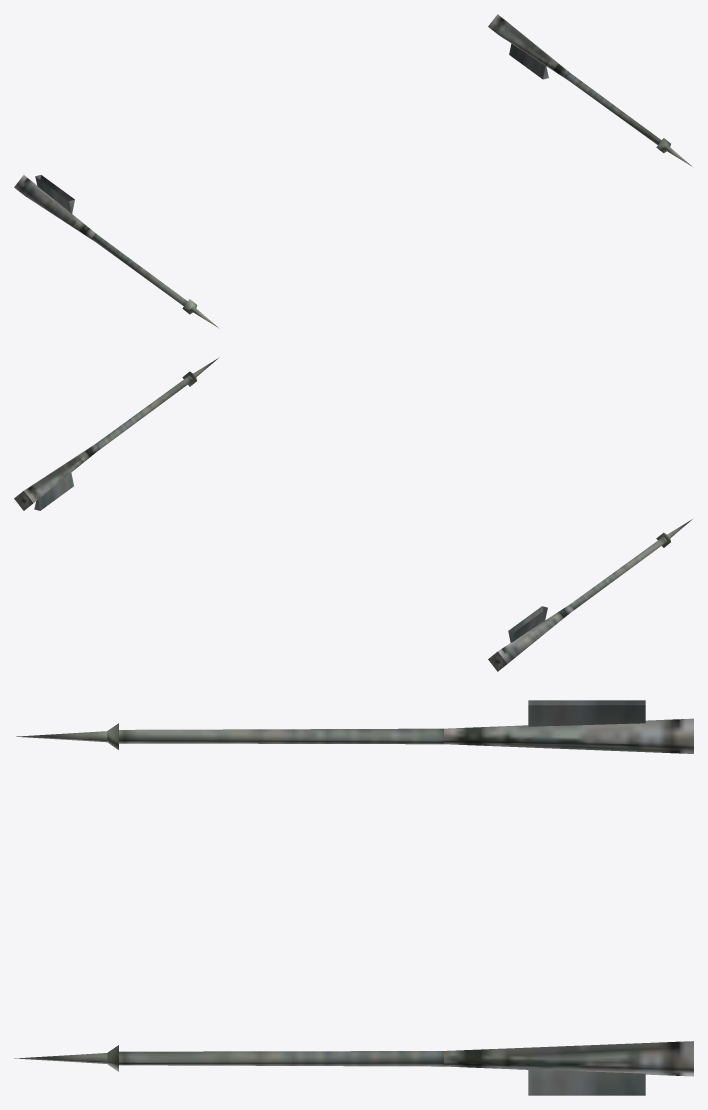
File: xwing_weapon1_neg_s01_l2.fbx
3 views of the same model, one above another, from view 1: azimuth 30°, elevation 25°; view 2: azimuth 150°, elevation 25°; view 3: azimuth 270°, elevation 25° (orthographic). The views are drawn at different scales.
Parts seen in each view (by area): view 1: mesh_node; view 2: mesh_node; view 3: mesh_node.
Boxes of the visible parts, x1,y1,x2,y2 form: mesh_node: (14, 14, 692, 328); mesh_node: (14, 357, 692, 671); mesh_node: (14, 700, 693, 1095).
Bounding box in the file's own units: 12.94 × 1.64 × 8.92.
1 material, 1 textured.
